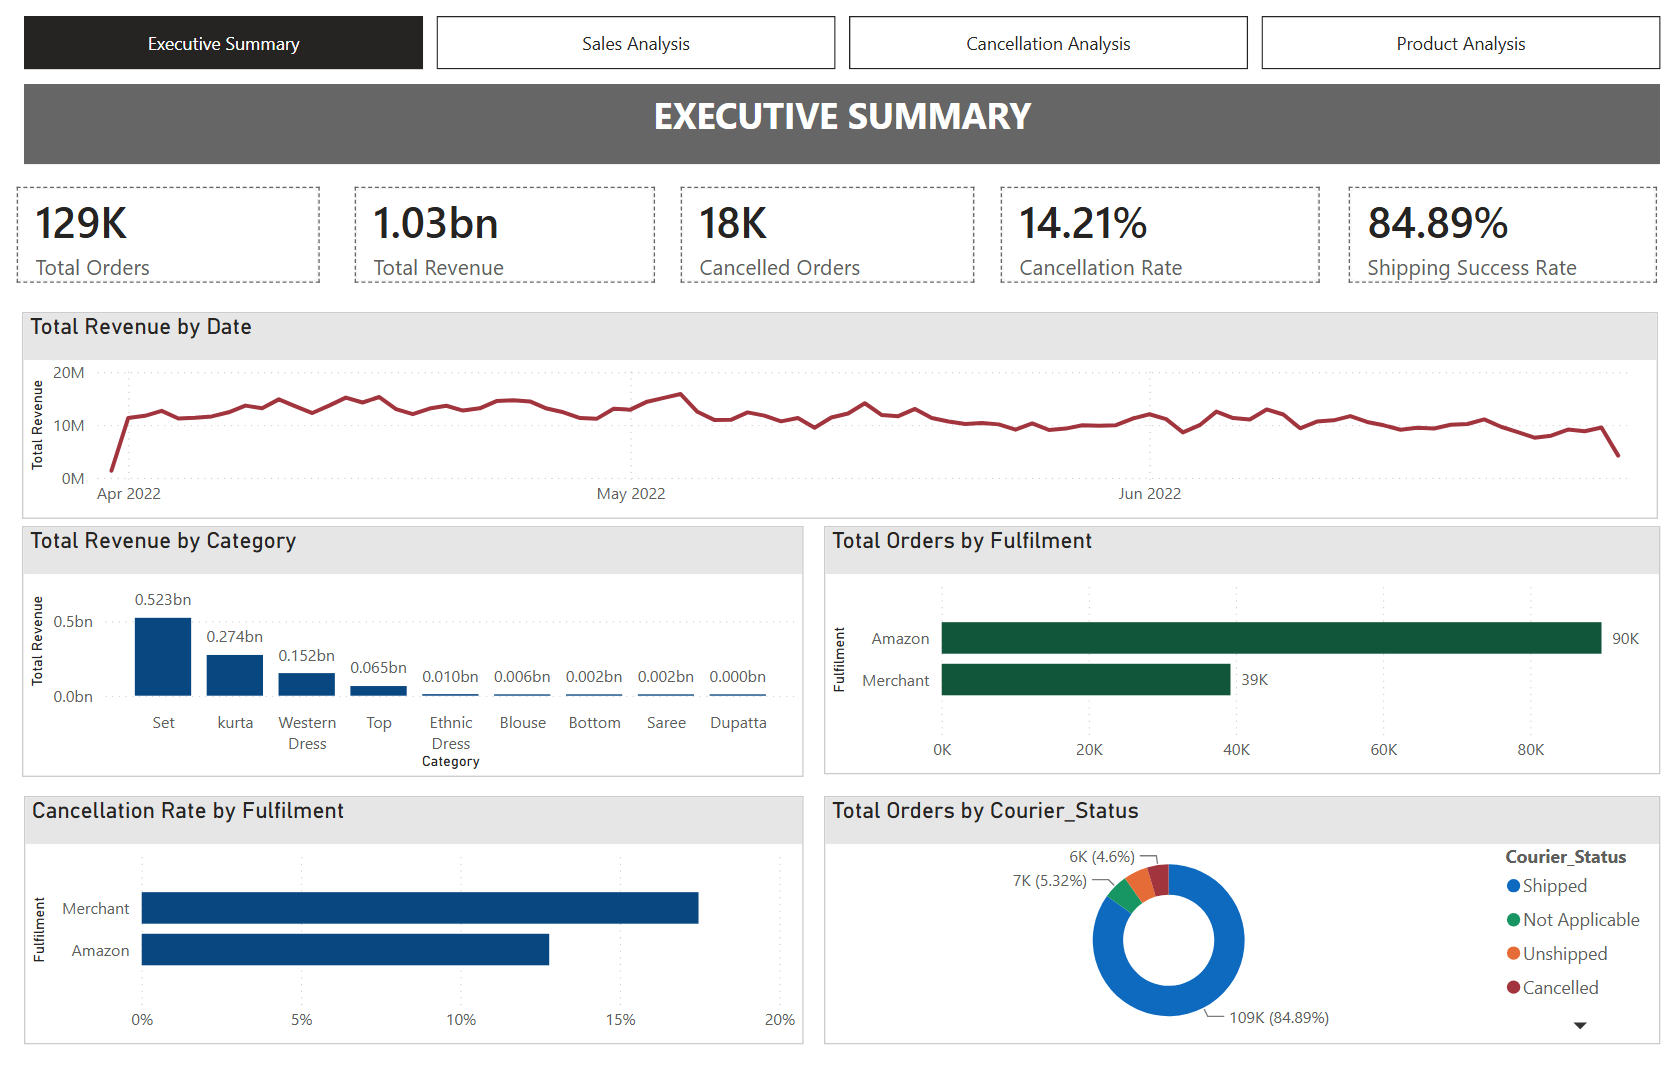

Layout of this report page (visuals, bound fields, positions):
{"tool":"powerbi","page":{"name":"Executive Summary","canvas":[1272,827],"ordinal":0},"visuals":[{"type":"cardVisual","fields":{"Data":["AMAZONREPORT_BACKUP.Total Orders"]},"box":[0,128.8,261.8,106.7],"z":0},{"type":"cardVisual","fields":{"Data":["AMAZONREPORT_BACKUP.Total Revenue"]},"box":[253,129,259.9,106.7],"z":1000},{"type":"cardVisual","fields":{"Data":["AMAZONREPORT_BACKUP.Cancelled Orders"]},"box":[497.4,129,254.1,106.7],"z":2000},{"type":"cardVisual","fields":{"Data":["AMAZONREPORT_BACKUP.Cancellation Rate"]},"box":[737.9,129,273.5,106.7],"z":3000},{"type":"lineChart","fields":{"Y":["AMAZONREPORT_BACKUP.Total Revenue"],"Category":["AMAZONREPORT_BACKUP.Date"]},"box":[20.3,239.6,1225.7,155.2],"z":4000},{"type":"columnChart","fields":{"Category":["AMAZONREPORT_BACKUP.Category"],"Y":["AMAZONREPORT_BACKUP.Total Revenue"]},"box":[20.3,400.6,585.7,188.1],"z":5000},{"type":"barChart","fields":{"Y":["AMAZONREPORT_BACKUP.Total Orders"],"Category":["AMAZONREPORT_BACKUP.Fulfilment"]},"box":[621.5,400.6,626.4,186.2],"z":6000},{"type":"barChart","fields":{"Y":["AMAZONREPORT_BACKUP.Cancellation Rate"],"Category":["AMAZONREPORT_BACKUP.Fulfilment"]},"box":[22.2,602.3,583.8,186.2],"z":7000},{"type":"donutChart","fields":{"Category":["AMAZONREPORT_BACKUP.Courier_Status"],"Y":["AMAZONREPORT_BACKUP.Total Orders"]},"box":[621.5,602.3,626.4,186.2],"z":8000},{"type":"cardVisual","fields":{"Data":["AMAZONREPORT_BACKUP.Shipping Success Rate"]},"box":[997.7,129,265.7,106.7],"z":9000},{"type":"textbox","box":[22.5,68.9,1225.7,60.1],"z":10000},{"type":"pageNavigator","box":[22.5,18,1227,40.5],"z":10001}]}

Visuals, with their boxes in screenshot pixels (x1, y1, x2, y2), scaled from the page's 1272x827 canvas onto the 1680x1070 screenshot:
cardVisual - AMAZONREPORT_BACKUP.Total Orders: <region>0, 167, 346, 305</region>
cardVisual - AMAZONREPORT_BACKUP.Total Revenue: <region>334, 167, 677, 305</region>
cardVisual - AMAZONREPORT_BACKUP.Cancelled Orders: <region>657, 167, 993, 305</region>
cardVisual - AMAZONREPORT_BACKUP.Cancellation Rate: <region>975, 167, 1336, 305</region>
lineChart - AMAZONREPORT_BACKUP.Total Revenue x AMAZONREPORT_BACKUP.Date: <region>27, 310, 1646, 511</region>
columnChart - AMAZONREPORT_BACKUP.Category x AMAZONREPORT_BACKUP.Total Revenue: <region>27, 518, 800, 762</region>
barChart - AMAZONREPORT_BACKUP.Total Orders x AMAZONREPORT_BACKUP.Fulfilment: <region>821, 518, 1648, 759</region>
barChart - AMAZONREPORT_BACKUP.Cancellation Rate x AMAZONREPORT_BACKUP.Fulfilment: <region>29, 779, 800, 1020</region>
donutChart - AMAZONREPORT_BACKUP.Courier_Status x AMAZONREPORT_BACKUP.Total Orders: <region>821, 779, 1648, 1020</region>
cardVisual - AMAZONREPORT_BACKUP.Shipping Success Rate: <region>1318, 167, 1669, 305</region>
textbox: <region>30, 89, 1649, 167</region>
pageNavigator: <region>30, 23, 1650, 76</region>
